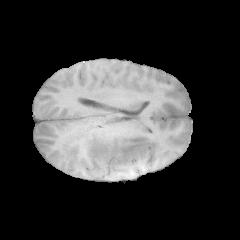glioma: (62, 113, 149, 170)
